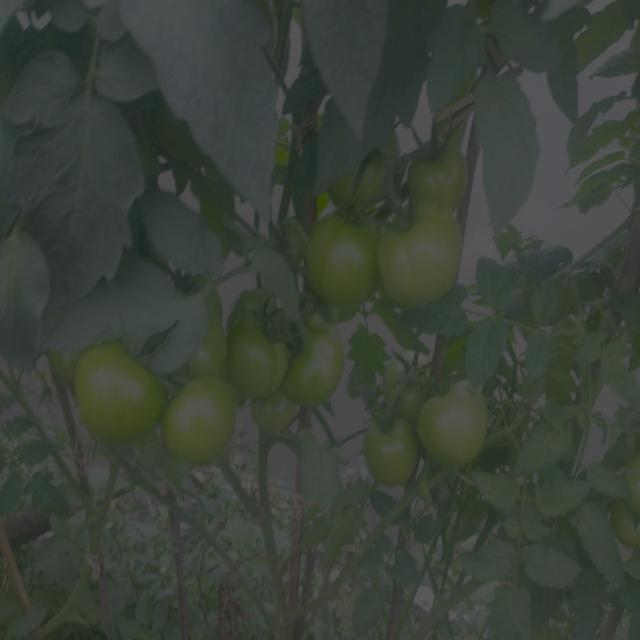tomato: (385, 195, 465, 310), (78, 341, 170, 435), (416, 379, 496, 473), (160, 377, 237, 460), (232, 307, 293, 396), (305, 218, 368, 301), (295, 311, 344, 399), (366, 418, 421, 485), (412, 138, 465, 197), (235, 285, 293, 331), (341, 159, 387, 211), (387, 353, 419, 410), (192, 329, 230, 373), (250, 384, 291, 424), (617, 502, 640, 551)
